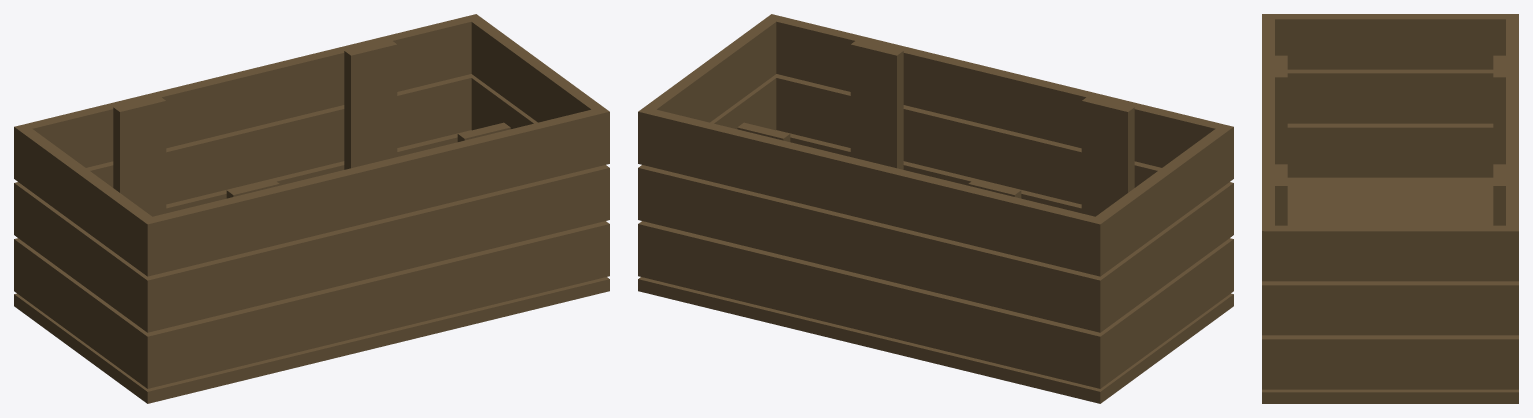
Rendered from island_crate_3.fbx.
The picture shows the model from 3 angles, left to right: view 1: azimuth 30°, elevation 25°; view 2: azimuth 150°, elevation 25°; view 3: azimuth 270°, elevation 25°; orthographic projection. The views are drawn at different scales.
Visible parts, largest first — view 1: Cube.071; view 2: Cube.071; view 3: Cube.071.
Part boxes in pixels (x1,y1,x2,y2): Cube.071: (14,14,609,403); Cube.071: (638,14,1233,403); Cube.071: (1262,14,1518,403).
Size of the model in its own units: 2 by 0.75 by 1.
